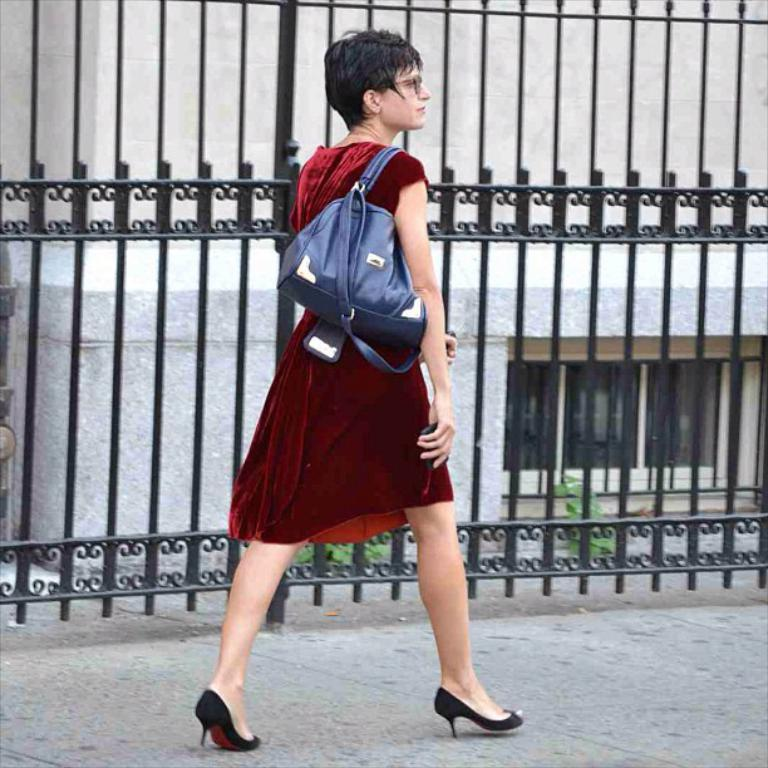Luggage-and-bags: (275, 143, 427, 376)
